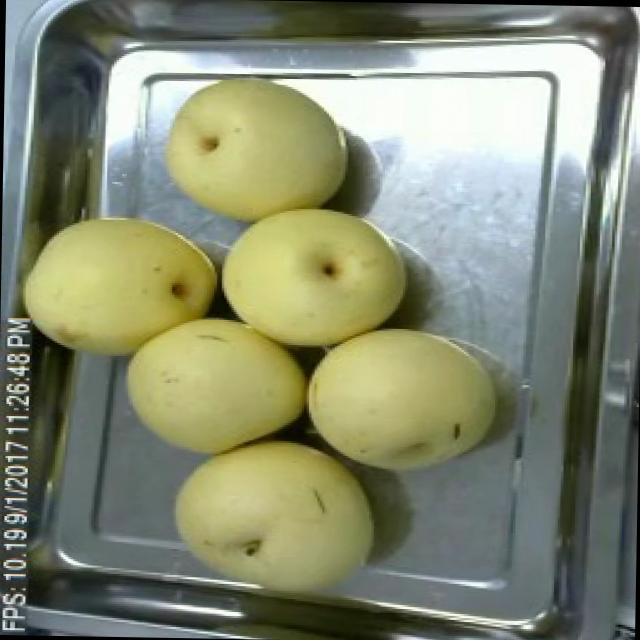Fruit: (154, 419, 390, 615), (16, 198, 228, 372), (107, 298, 320, 470), (295, 314, 506, 486), (208, 198, 416, 366), (148, 71, 359, 233)
